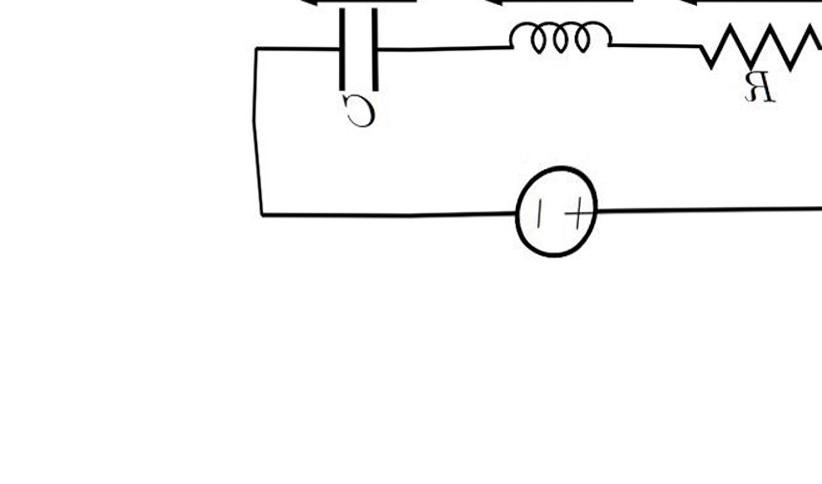Battery: (483, 138, 630, 282)
